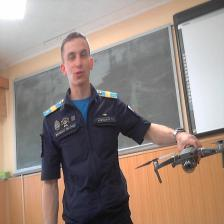drone: (131, 137, 224, 185)
